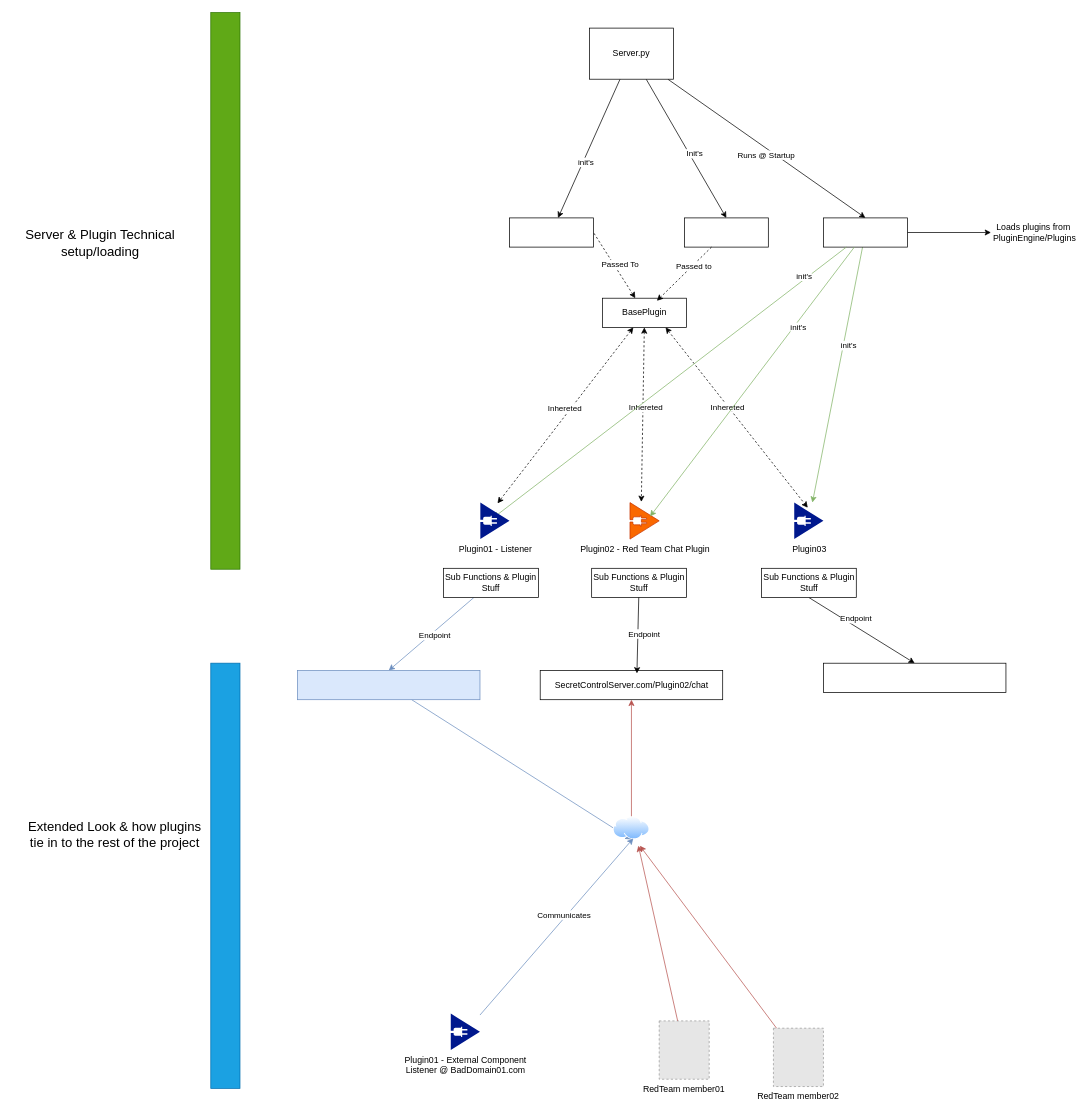
Image size: 1091x1115. Some labels were removed from this diagram. Grey dashed boxes stand in for pictures. Here are the shapes that lost their labels. From the top down, the centre of each, then its label:
the point at 551,232: Data Class
the point at 726,232: Flask instance
the point at 865,232: PluginLoader
the point at 388,685: SecretControlServer.com/Plugin01/data
the point at 914,677: SecretControlServer.com/Plugin03/data
the point at 631,827: Internet
